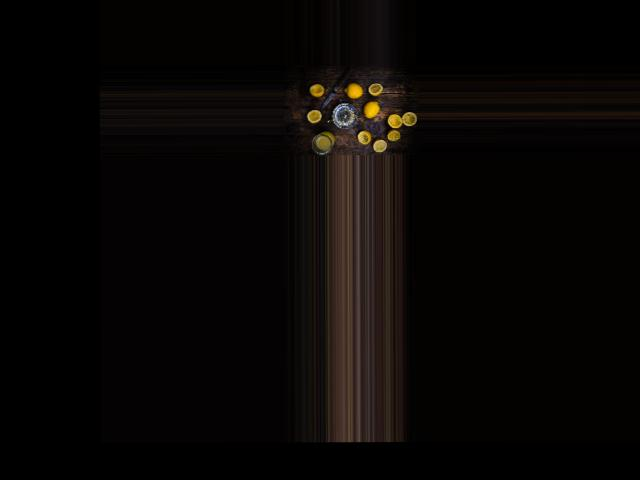lemon: (344, 83, 369, 101)
